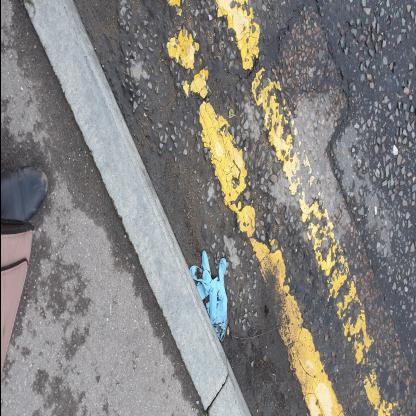plastik: (188, 250, 226, 342)
